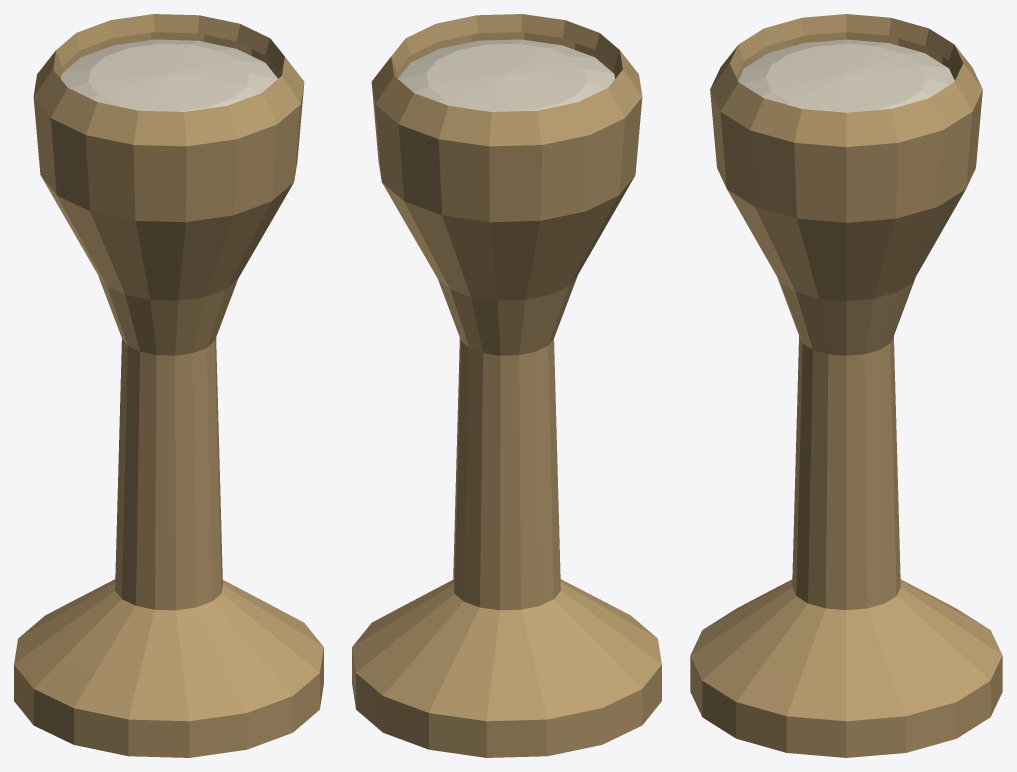
File: corridor_urn.glb
3 renders of one model, left to right at view 1: azimuth 30°, elevation 25°; view 2: azimuth 150°, elevation 25°; view 3: azimuth 270°, elevation 25°, orthographic.
Parts seen in each view (by area): view 1: corridor_urn; view 2: corridor_urn; view 3: corridor_urn.
Boxes of the visible parts, left/top/right/bottom form: corridor_urn: left=14, top=14, right=323, bottom=757; corridor_urn: left=352, top=14, right=661, bottom=757; corridor_urn: left=690, top=14, right=1002, bottom=757.
Bounding box in the file's own units: 0.27 × 0.6 × 0.27.
